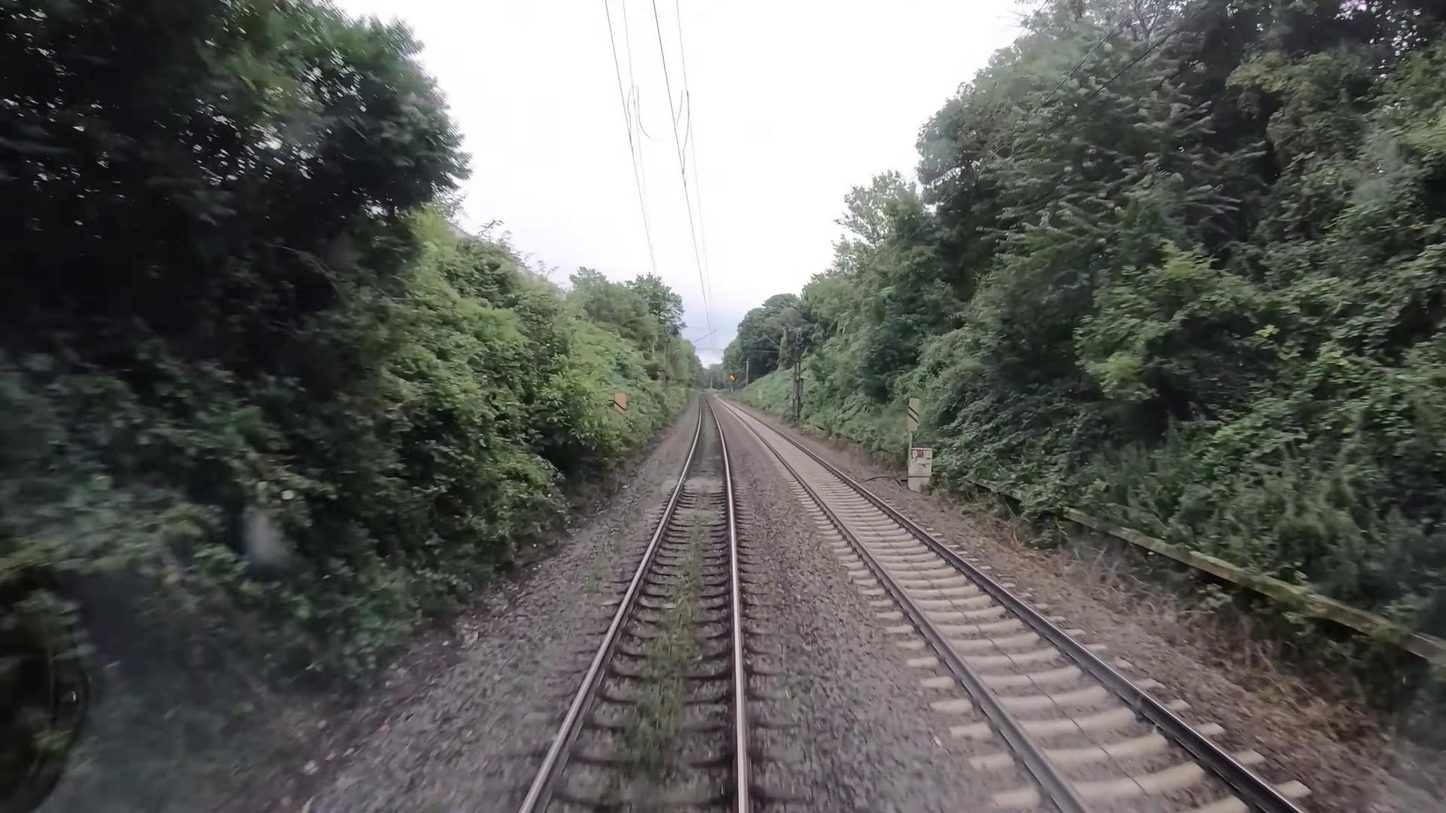Plant: (591, 483, 712, 809), (700, 402, 715, 454)
